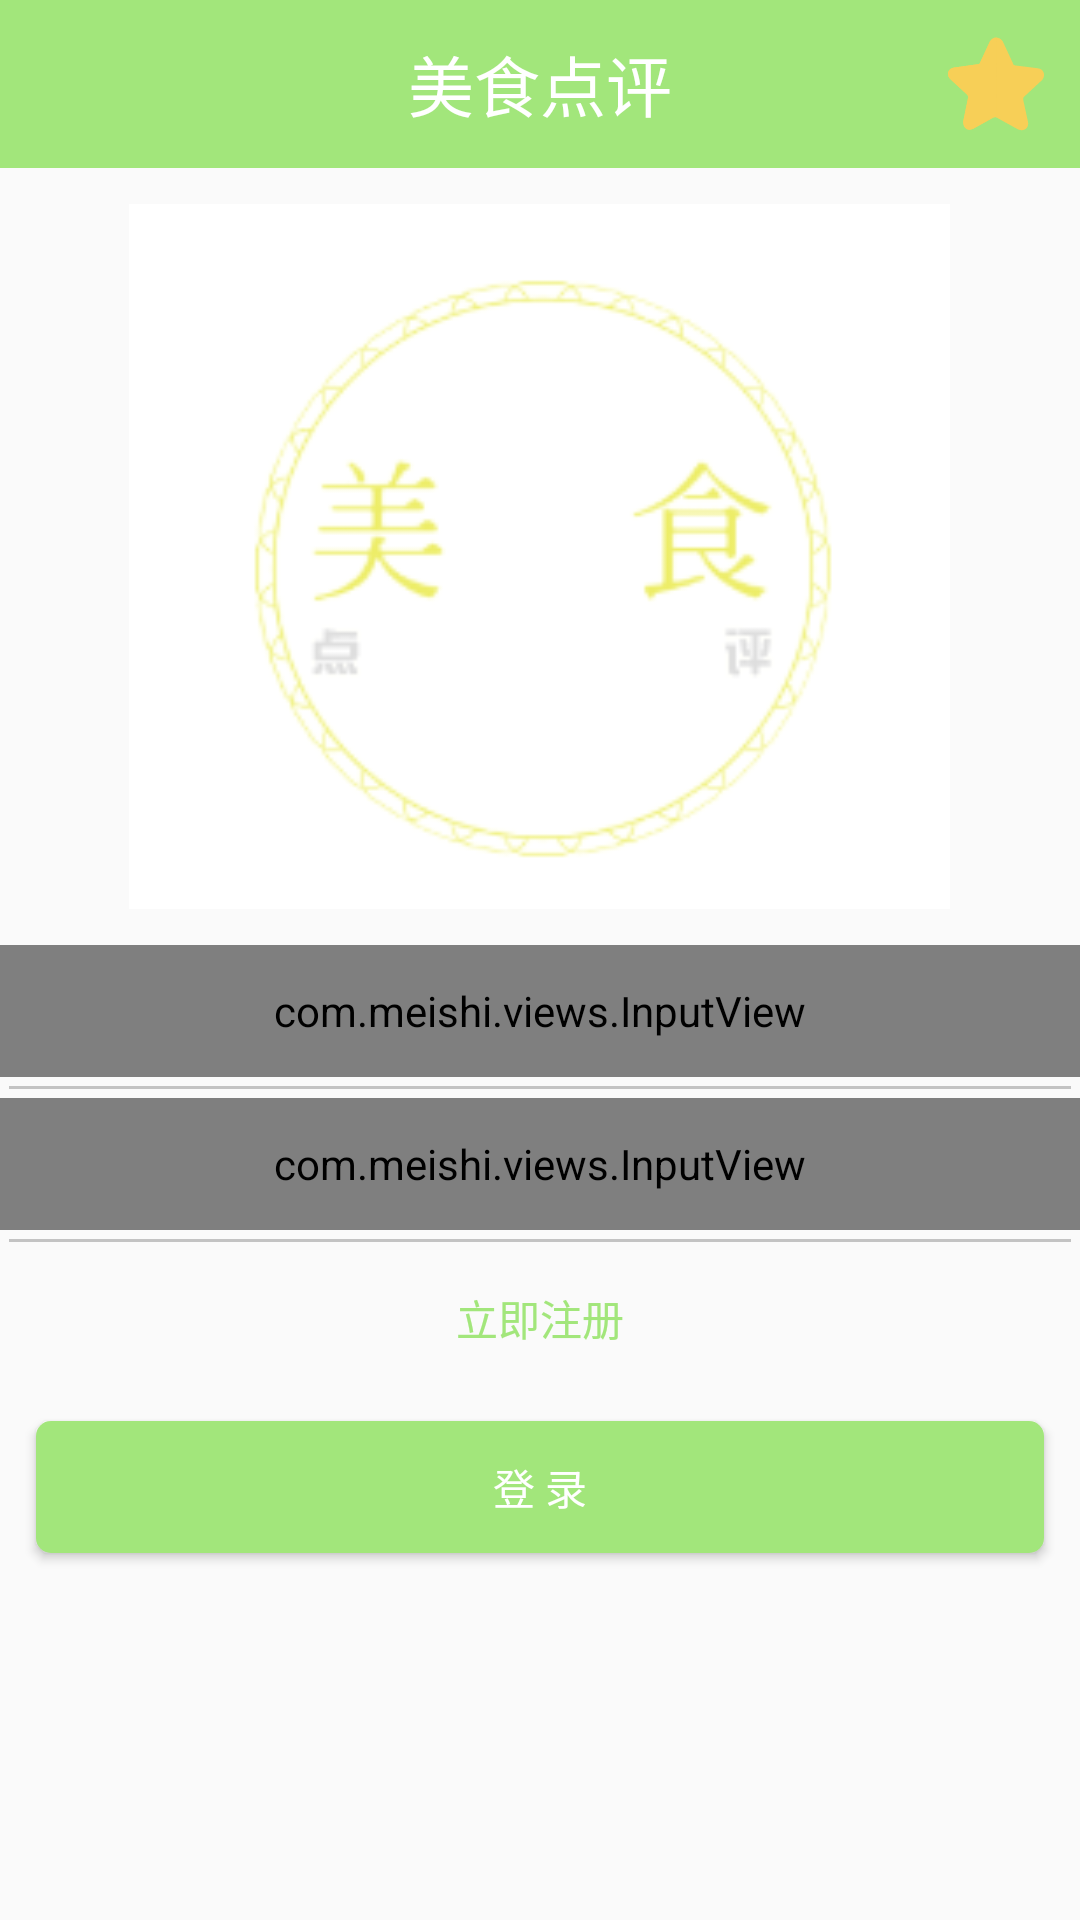

Icon click points for this 1080px×1920px phone screenshot, format (x,y):
collect: (996,83)
